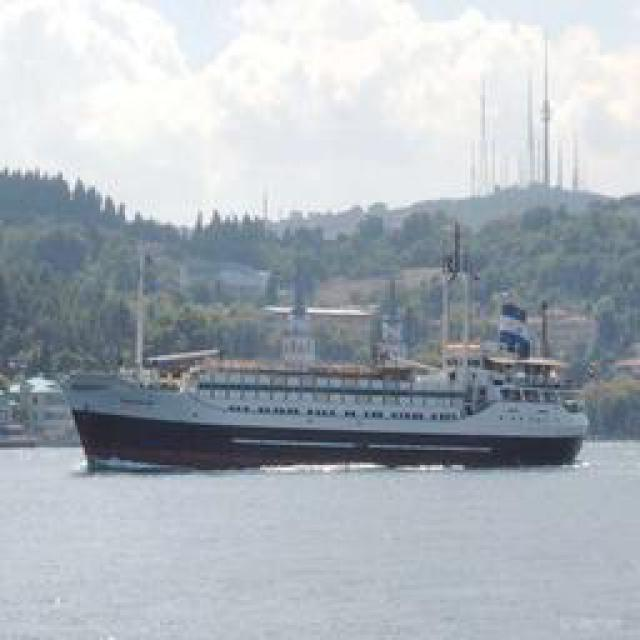Ship: (54, 276, 594, 469)
